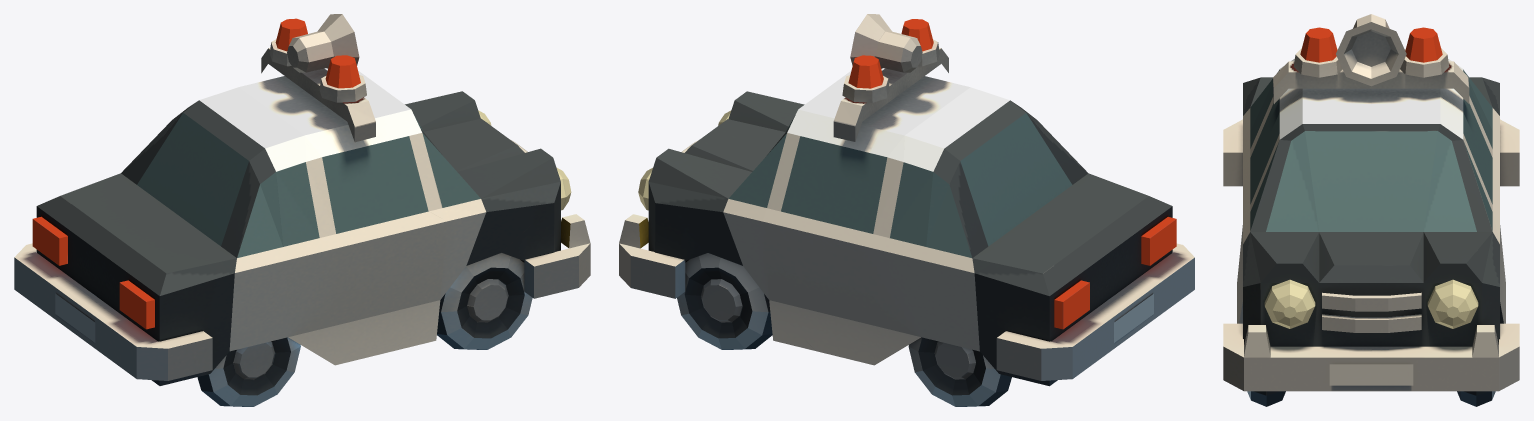
The picture shows the model from 3 angles, left to right: view 1: azimuth 30°, elevation 25°; view 2: azimuth 150°, elevation 25°; view 3: azimuth 270°, elevation 25°; orthographic projection. The views are drawn at different scales.
Visible parts, largest first — view 1: PUSHILIN_Police_car_Cube.006; view 2: PUSHILIN_Police_car_Cube.006; view 3: PUSHILIN_Police_car_Cube.006.
Boxes of the visible parts, <box> form: PUSHILIN_Police_car_Cube.006: <box>14,14,590,406</box>; PUSHILIN_Police_car_Cube.006: <box>619,14,1194,406</box>; PUSHILIN_Police_car_Cube.006: <box>1223,14,1519,406</box>.
Size of the model in its own units: 2.35 by 1.58 by 1.27.
1 material, 1 textured.
